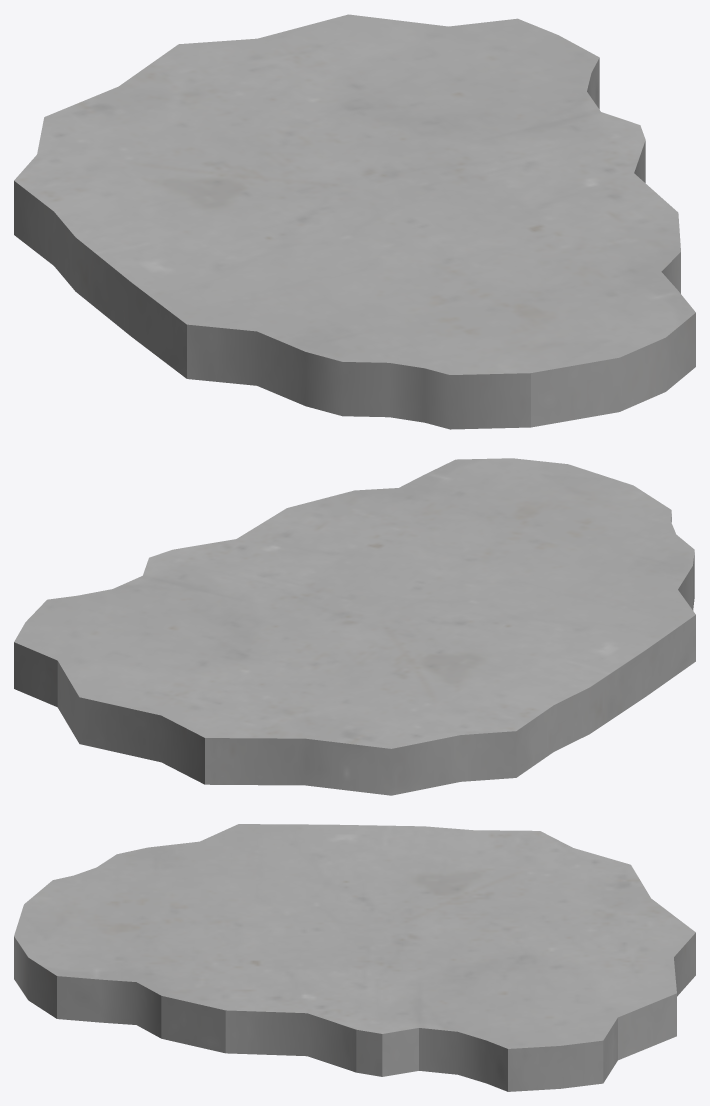
Rendered from SM_Ground_Debris_S1.fbx.
The picture shows the model from 3 angles, top to bottom: view 1: azimuth 30°, elevation 25°; view 2: azimuth 150°, elevation 25°; view 3: azimuth 270°, elevation 25°; orthographic projection. The views are drawn at different scales.
Parts seen in each view (by area): view 1: SM_Ground_Debris_S1_LOD0; view 2: SM_Ground_Debris_S1_LOD0; view 3: SM_Ground_Debris_S1_LOD0.
Part boxes in pixels (x1,y1,x2,y2): SM_Ground_Debris_S1_LOD0: (14, 14, 695, 429); SM_Ground_Debris_S1_LOD0: (14, 458, 695, 795); SM_Ground_Debris_S1_LOD0: (14, 824, 695, 1091).
Bounding box in the file's own units: 72.73 × 93.18 × 6.48.
1 material, 1 textured.
